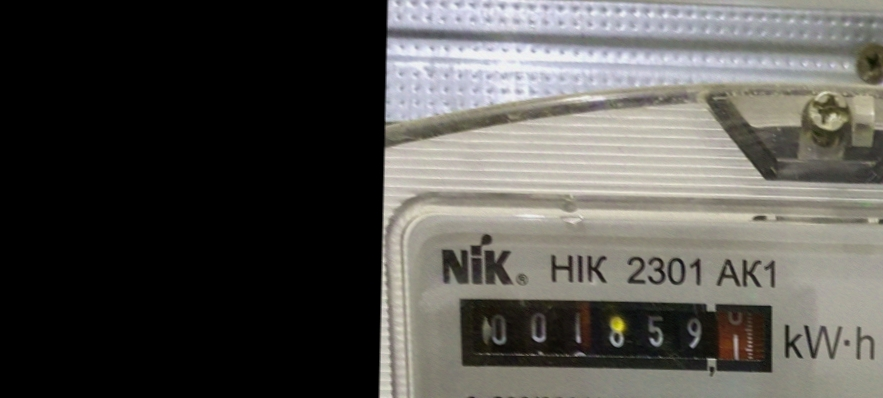0: (487, 311, 507, 347), (526, 310, 546, 344)
1: (570, 310, 582, 345), (727, 331, 740, 362)
5: (643, 312, 664, 348)
8: (604, 314, 625, 349)
9: (682, 315, 702, 350)
screen: (445, 286, 782, 383)
